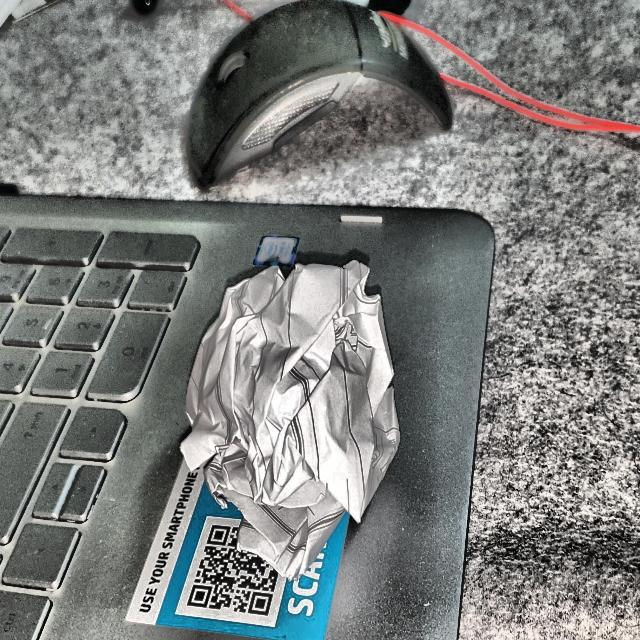paper: (162, 235, 415, 590)
